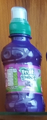blueberries: (1, 7, 45, 113)
